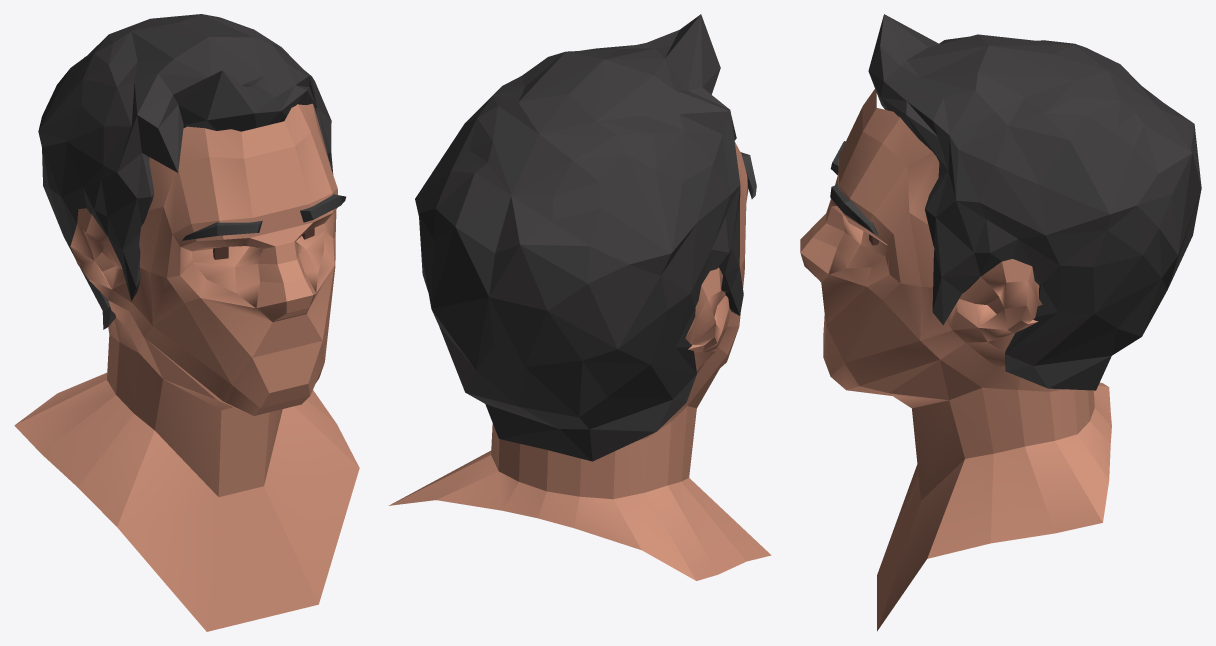
File: ricky.glb
3 renders of one model, left to right at view 1: azimuth 30°, elevation 25°; view 2: azimuth 150°, elevation 25°; view 3: azimuth 270°, elevation 25°, orthographic. The views are drawn at different scales.
Parts seen in each view (by area): view 1: low1, textured_output1, PM3D_Cube3D1_1; view 2: textured_output1, low1; view 3: textured_output1, low1, PM3D_Cube3D1_1.
Boxes of the visible parts, <box> form: low1: <box>14,103,359,631</box>; textured_output1: <box>38,14,333,329</box>; PM3D_Cube3D1_1: <box>182,194,345,240</box>; textured_output1: <box>415,14,743,461</box>; low1: <box>388,142,771,580</box>; textured_output1: <box>868,14,1201,390</box>; low1: <box>800,89,1111,631</box>; PM3D_Cube3D1_1: <box>830,141,878,235</box>.
Bounding box in the file's own units: 5.2 × 9.92 × 6.32.
